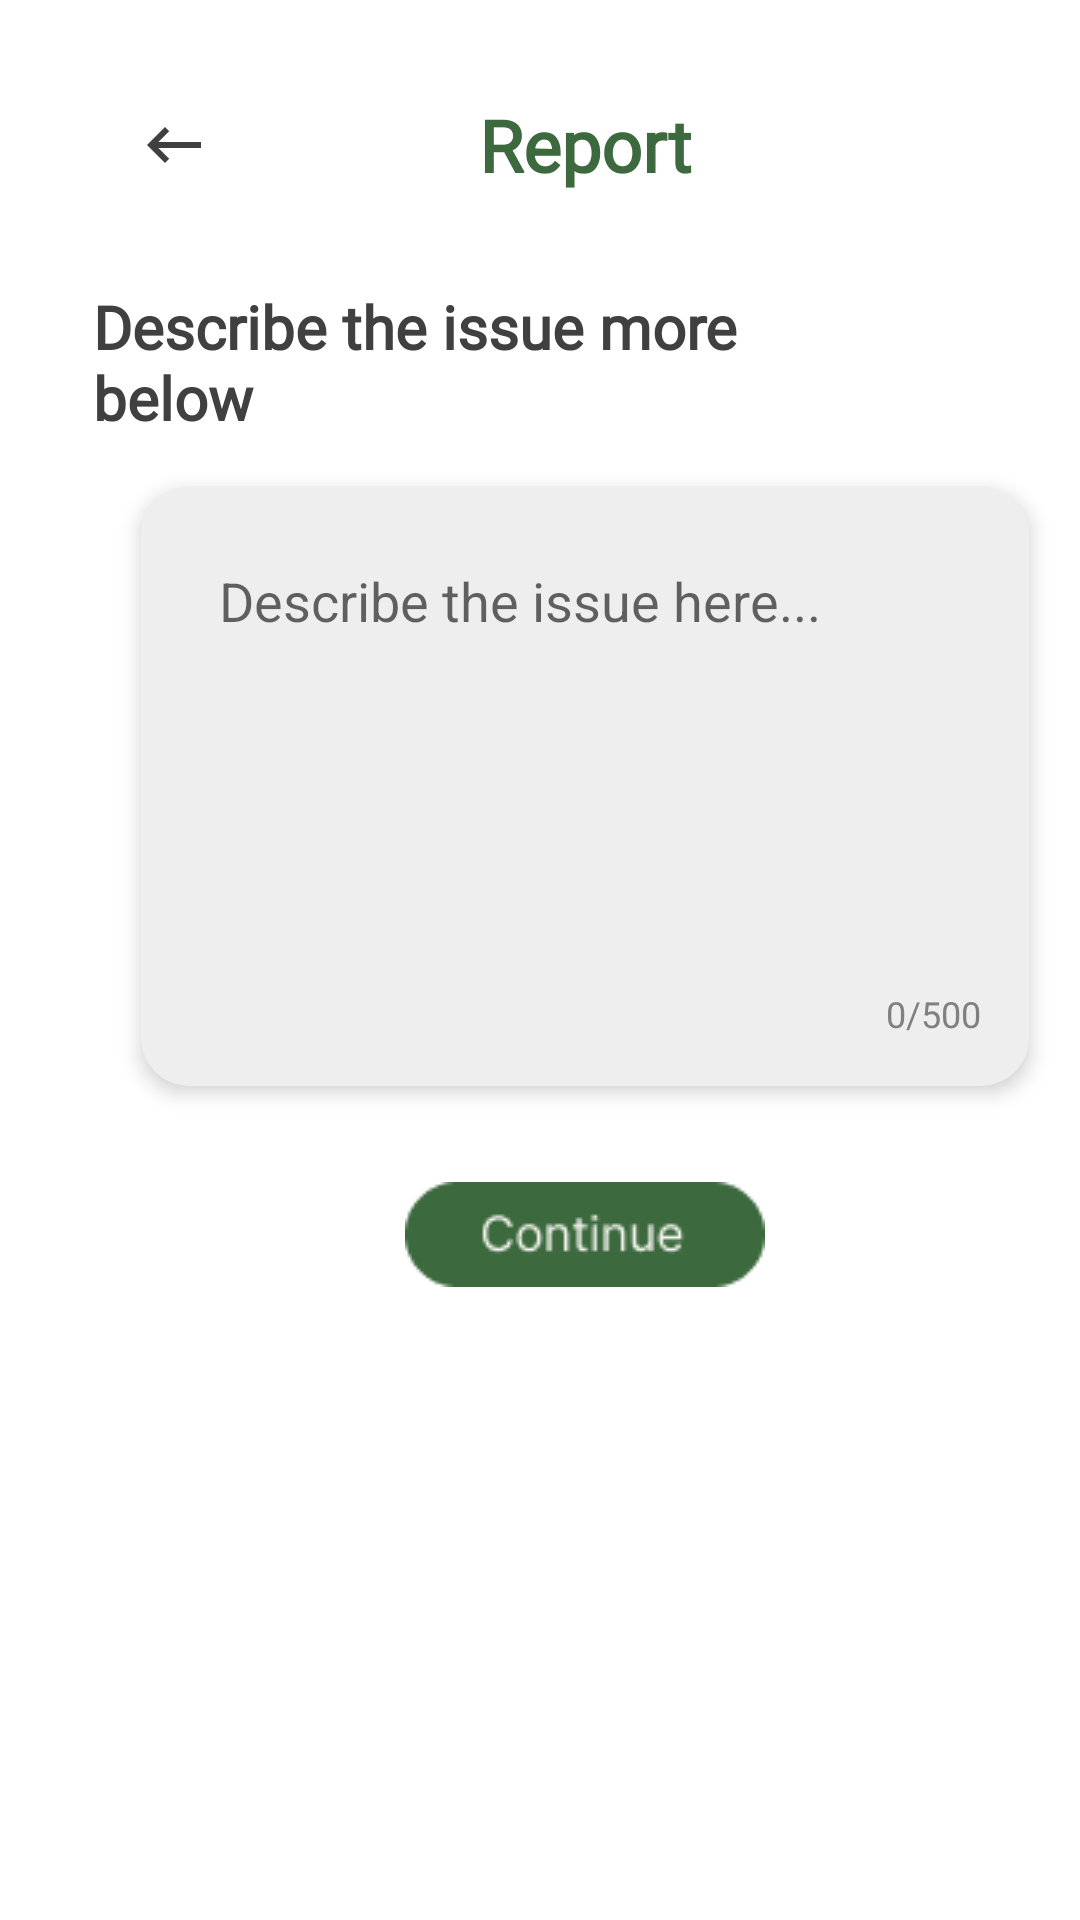

Icons on this 1080w x 1920h Android screen, each with the point to tap as [x,y]:
back: [174,145]
